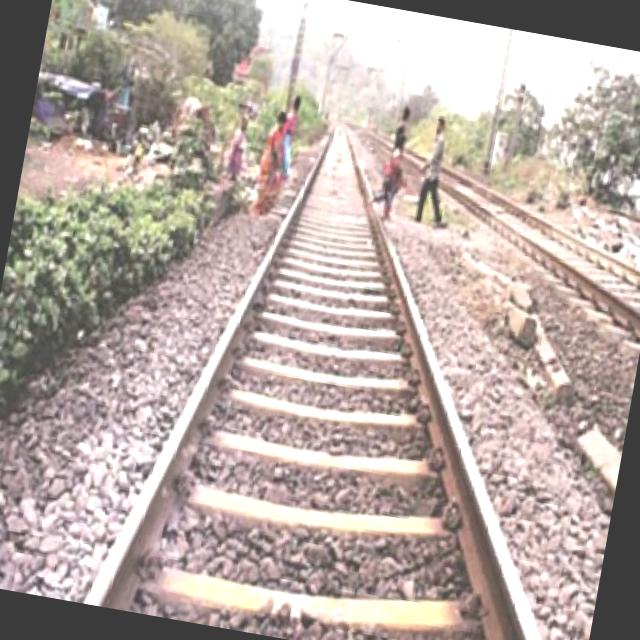Person: (411, 108, 460, 230), (378, 98, 418, 222), (252, 103, 296, 213)
